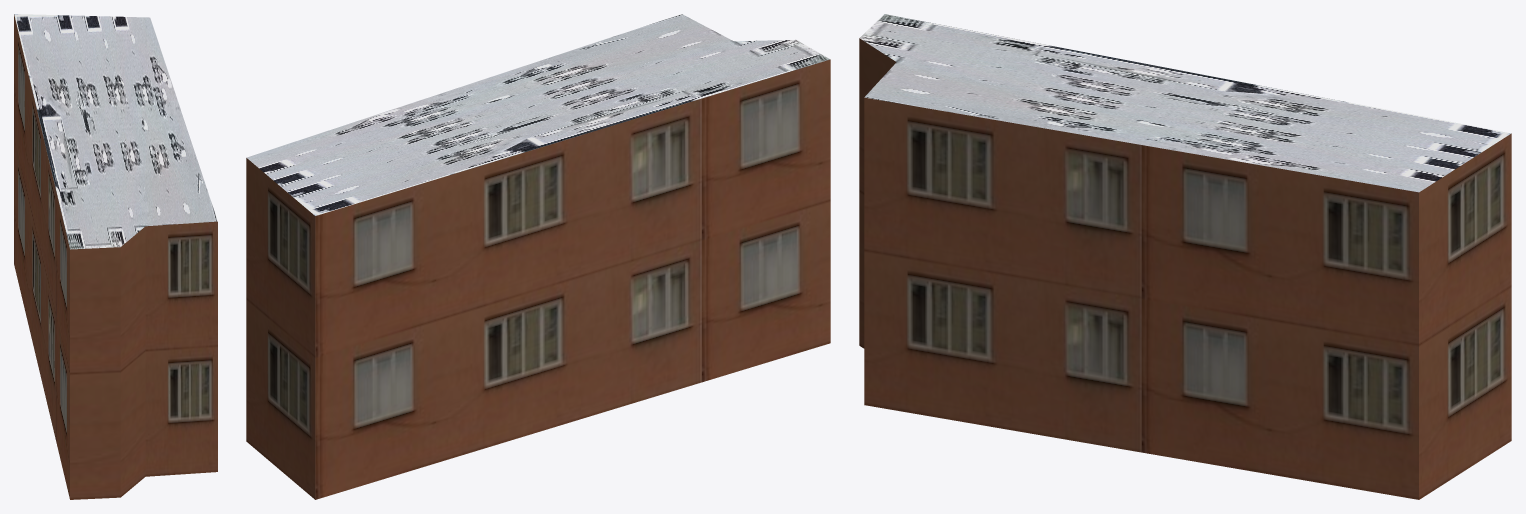
The model's file is ResTex__4077.fbx.
3 renders of one model, left to right at view 1: azimuth 30°, elevation 25°; view 2: azimuth 150°, elevation 25°; view 3: azimuth 270°, elevation 25°, orthographic. The views are drawn at different scales.
Visible parts, largest first — view 1: CityEngineMaterial_20_m, CityEngineMaterial_m; view 2: CityEngineMaterial_20_m, CityEngineMaterial_m; view 3: CityEngineMaterial_20_m, CityEngineMaterial_m.
Boxes of the visible parts, left/top/right/bottom form: CityEngineMaterial_20_m: left=14, top=14, right=217, bottom=499; CityEngineMaterial_m: left=14, top=14, right=217, bottom=249; CityEngineMaterial_20_m: left=246, top=59, right=830, bottom=499; CityEngineMaterial_m: left=247, top=14, right=829, bottom=215; CityEngineMaterial_20_m: left=859, top=38, right=1511, bottom=499; CityEngineMaterial_m: left=859, top=14, right=1510, bottom=192.
Size of the model in its own units: 7.47 by 6 by 11.53.
2 materials, 2 textured.
